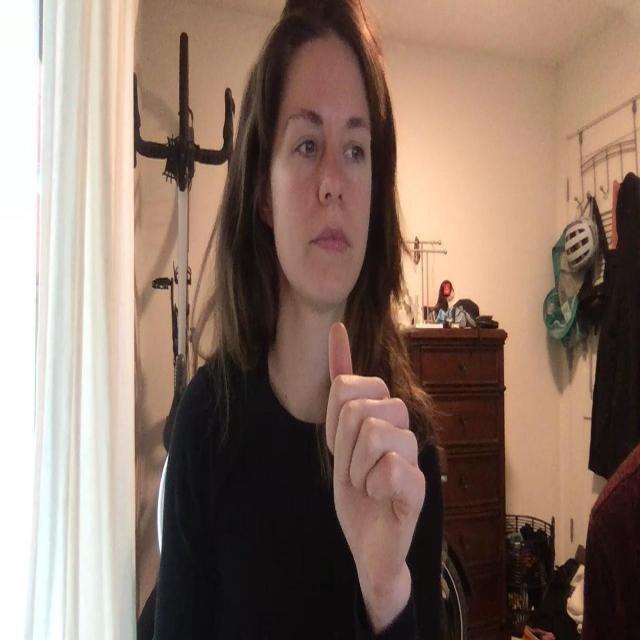face: (271, 61, 373, 310)
